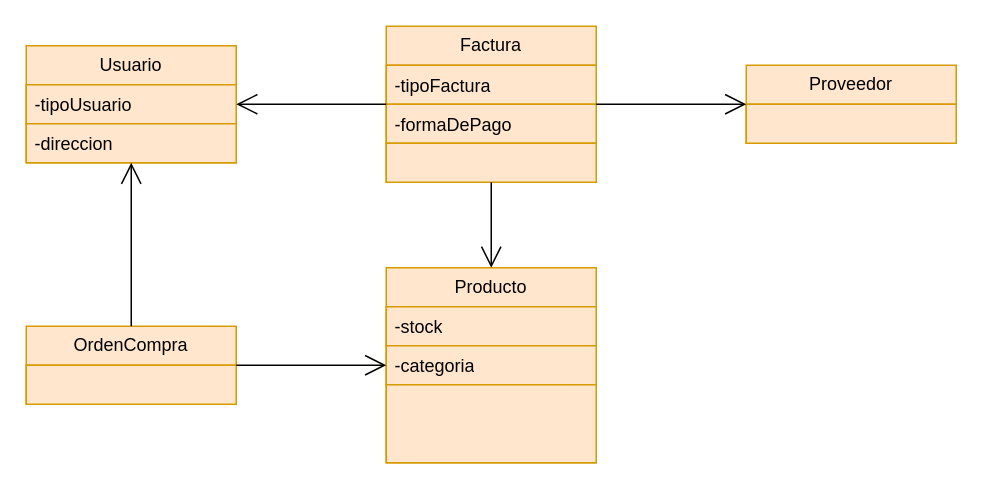
This 983x494 diagram has some shape labels left out. The centre of each missing label's shape, as x and y in pixels:
-contacto: the point at 850,123
-vigencia -imagen: the point at 490,423
